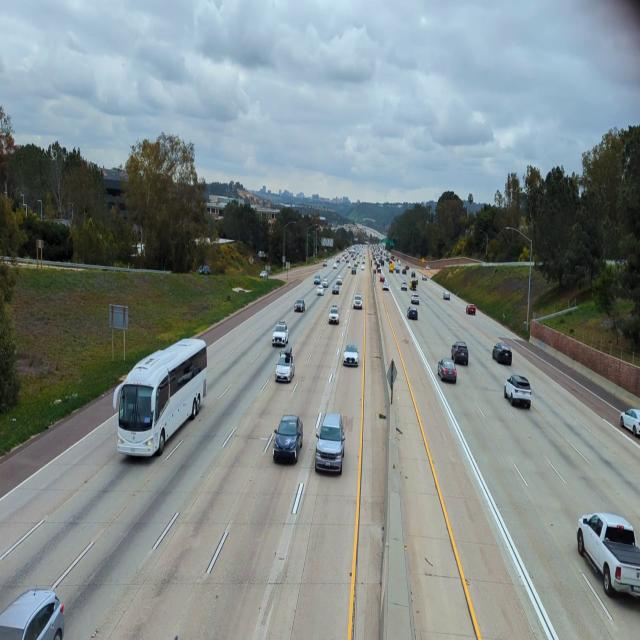bus: (116, 337, 207, 460)
car: (574, 503, 640, 592), (0, 586, 65, 640), (314, 414, 344, 474), (274, 416, 303, 460), (505, 374, 532, 401), (620, 404, 640, 438), (274, 355, 293, 384), (494, 340, 514, 365), (438, 361, 457, 384), (270, 324, 289, 346), (451, 341, 468, 365), (343, 345, 360, 365), (329, 306, 340, 322), (294, 300, 306, 314), (408, 305, 419, 320), (352, 296, 362, 310), (410, 292, 420, 305), (441, 290, 451, 301), (466, 304, 475, 316), (332, 285, 342, 295), (317, 284, 324, 296), (382, 281, 390, 290), (314, 273, 320, 284), (336, 276, 343, 284), (323, 278, 329, 287), (401, 282, 407, 291)
